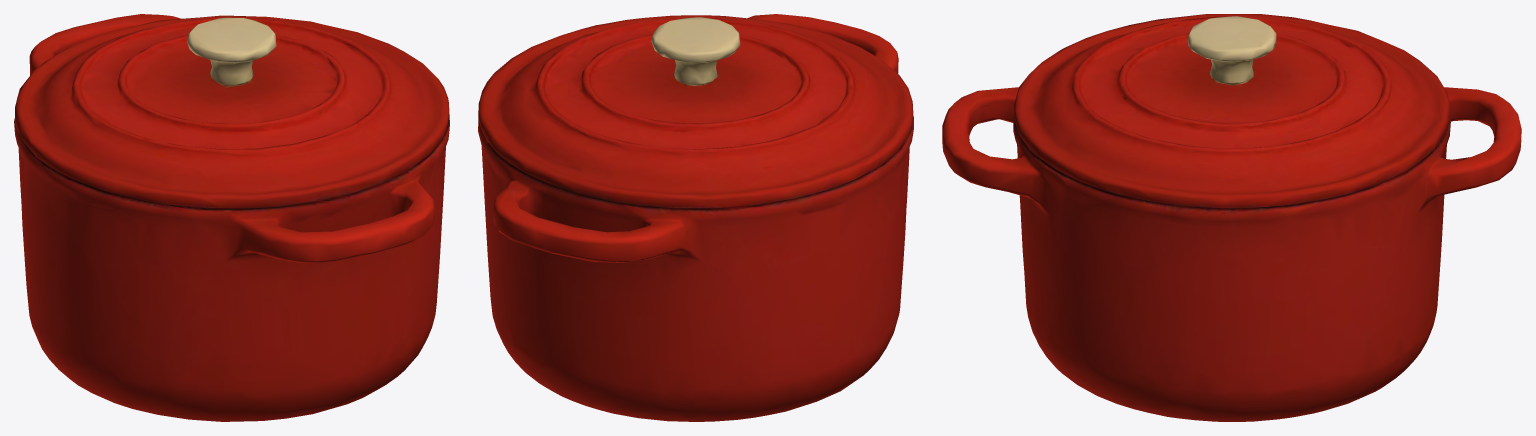
Rendered from SM_Kitchen_DutchOven.glb.
3 views of the same model, side by side, from view 1: azimuth 30°, elevation 25°; view 2: azimuth 150°, elevation 25°; view 3: azimuth 270°, elevation 25° (orthographic).
Parts seen in each view (by area): view 1: tripo_node_99384ce3-2c94-4d75-a5a4-fa4d2c9726ea; view 2: tripo_node_99384ce3-2c94-4d75-a5a4-fa4d2c9726ea; view 3: tripo_node_99384ce3-2c94-4d75-a5a4-fa4d2c9726ea.
Boxes of the visible parts, left/top/right/bottom form: tripo_node_99384ce3-2c94-4d75-a5a4-fa4d2c9726ea: left=14, top=14, right=449, bottom=421; tripo_node_99384ce3-2c94-4d75-a5a4-fa4d2c9726ea: left=478, top=14, right=913, bottom=421; tripo_node_99384ce3-2c94-4d75-a5a4-fa4d2c9726ea: left=942, top=14, right=1521, bottom=421.
Size of the model in its own units: 0.7573 by 0.6079 by 1.
Materials: 1 (1 with a texture image).
